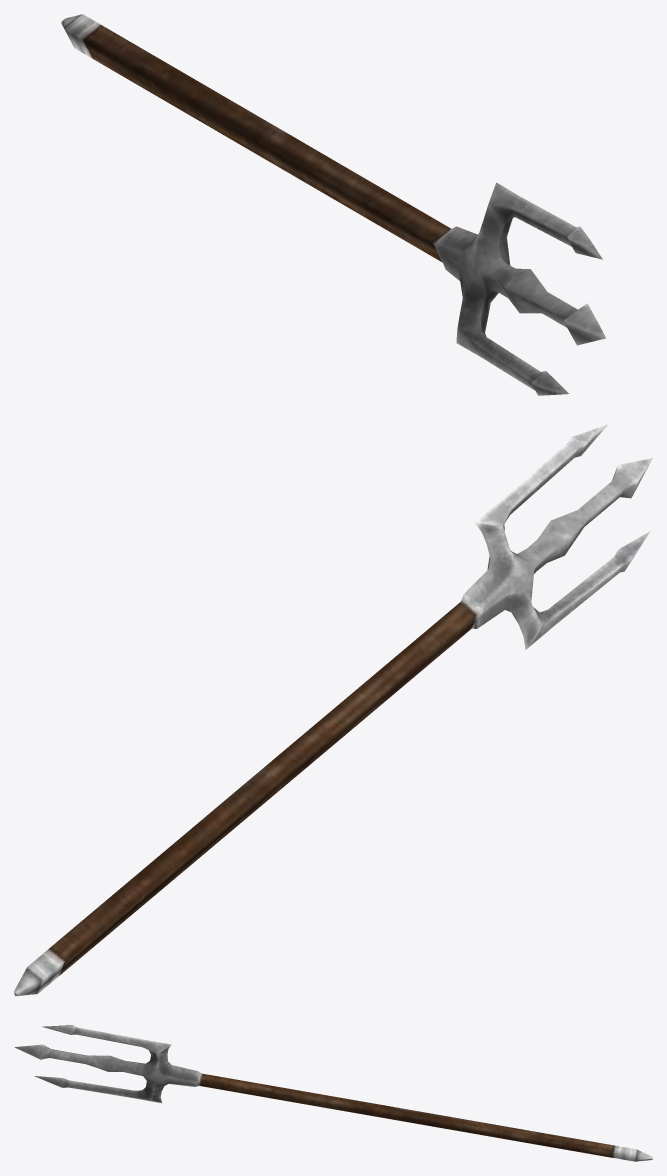
File: weapon-copperweapons.glb
The picture shows the model from 3 angles, top to bottom: view 1: azimuth 30°, elevation 25°; view 2: azimuth 150°, elevation 25°; view 3: azimuth 270°, elevation 25°; orthographic projection. The views are drawn at different scales.
Size of the model in its own units: 0.2808 by 0.4971 by 2.35.
1 material, 1 textured.
